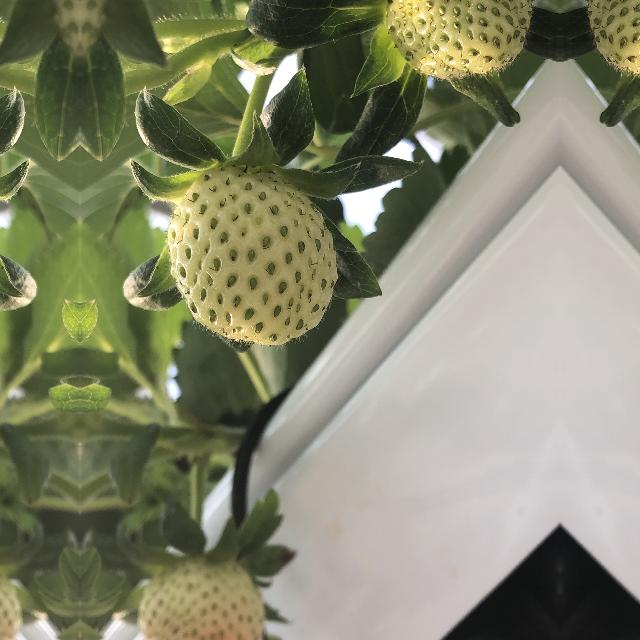Health_25: (166, 155, 347, 341)
